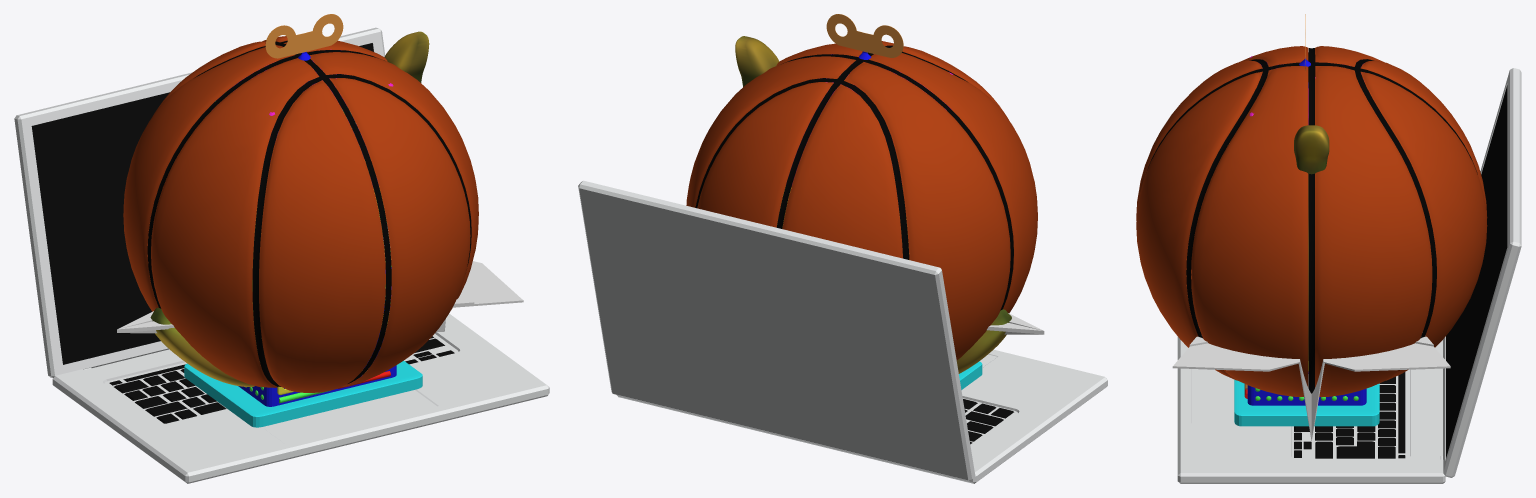
Rendered from all-d.glb.
The picture shows the model from 3 angles, left to right: view 1: azimuth 30°, elevation 25°; view 2: azimuth 150°, elevation 25°; view 3: azimuth 270°, elevation 25°; orthographic projection.
Visible parts, largest first — view 1: basketball, pc, robot, banana, plane; view 2: pc, basketball, banana, robot, plane; view 3: basketball, pc, plane, robot, banana.
Part boxes in pixels (x1,y1,x2,y2): basketball: [123, 36, 478, 392]; pc: [14, 27, 549, 483]; robot: [184, 14, 422, 427]; banana: [150, 31, 450, 387]; plane: [117, 261, 523, 333]; pc: [578, 180, 1107, 483]; basketball: [686, 41, 1037, 360]; banana: [735, 36, 1011, 373]; robot: [777, 14, 982, 389]; plane: [987, 313, 1044, 334]; basketball: [1136, 46, 1487, 396]; pc: [1177, 68, 1521, 483]; plane: [1172, 336, 1450, 440]; robot: [1234, 14, 1379, 426]; banana: [1294, 125, 1329, 360].
Size of the model in its own units: 1.93 by 1.88 by 1.78.
